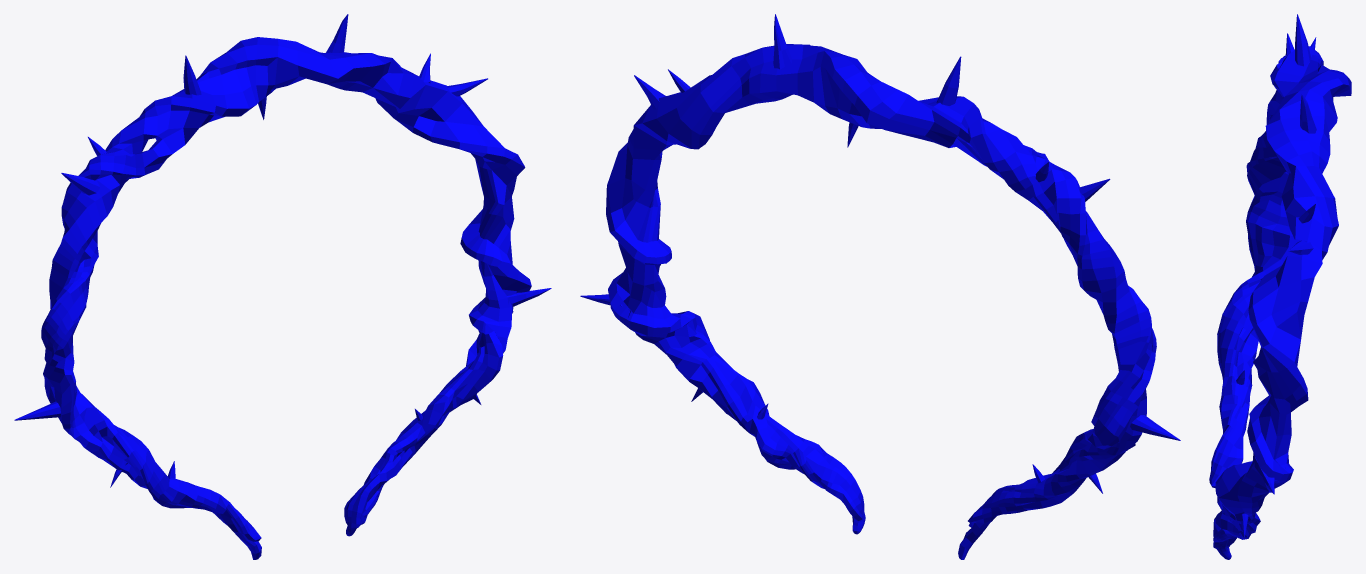
The model's file is witch_ring.FBX.
The picture shows the model from 3 angles, left to right: view 1: azimuth 30°, elevation 25°; view 2: azimuth 150°, elevation 25°; view 3: azimuth 270°, elevation 25°; orthographic projection. The views are drawn at different scales.
Parts seen in each view (by area): view 1: ring; view 2: ring; view 3: ring.
Part boxes in pixels (x1,y1,x2,y2): ring: (14,14,551,559); ring: (580,14,1180,559); ring: (1209,14,1351,559).
Bounding box in the file's own units: 105 × 90.84 × 24.18.
